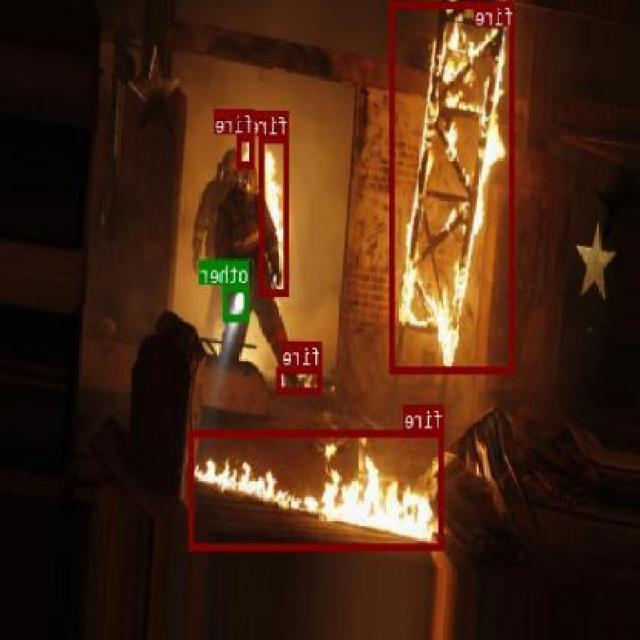fire: (390, 0, 516, 372), (190, 429, 446, 551), (261, 135, 290, 294), (278, 365, 322, 393), (238, 133, 255, 167)
other: (224, 284, 250, 321)
